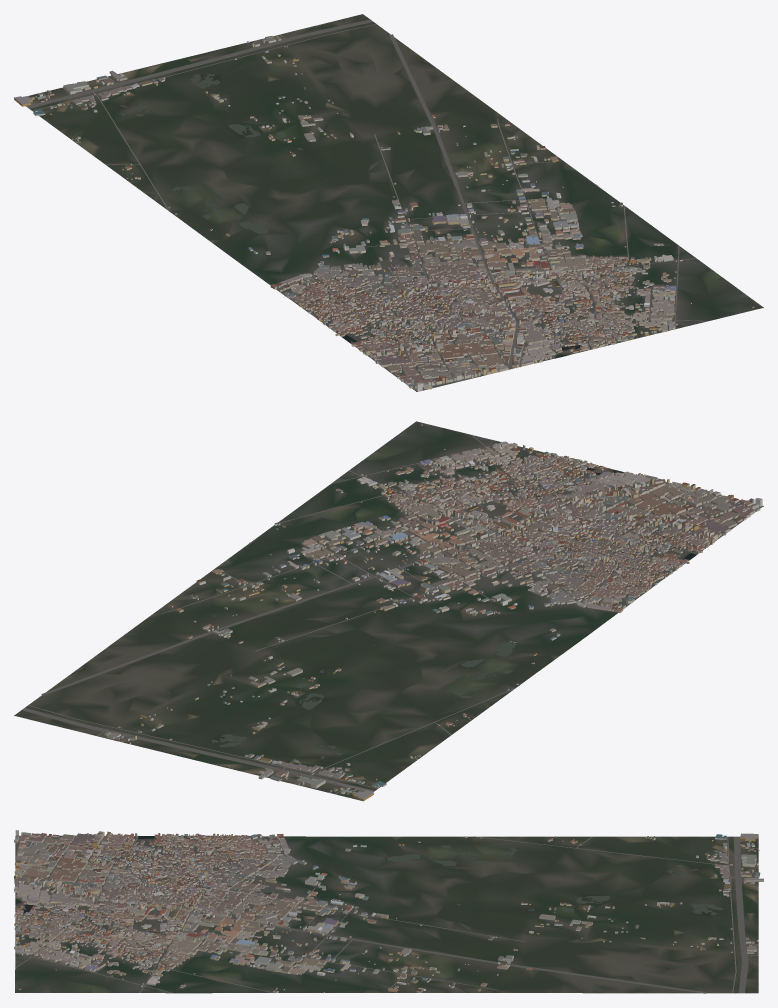
3 views of the same model, one above another, from view 1: azimuth 30°, elevation 25°; view 2: azimuth 150°, elevation 25°; view 3: azimuth 270°, elevation 25° (orthographic). The views are drawn at different scales.
Visible parts, largest first — view 1: ground, buildings, roads, water; view 2: ground, buildings, roads, water; view 3: ground, buildings, roads, water.
Part boxes in pixels (x1=…): ground: x1=27, y1=14, x2=763, y2=391; buildings: x1=14, y1=36, x2=754, y2=391; roads: x1=26, y1=19, x2=708, y2=389; water: x1=120, y1=73, x2=581, y2=357; ground: x1=14, y1=421, x2=763, y2=800; buildings: x1=104, y1=424, x2=762, y2=801; roads: x1=21, y1=435, x2=760, y2=794; water: x1=211, y1=468, x2=696, y2=759; ground: x1=15, y1=835, x2=758, y2=993; buildings: x1=14, y1=830, x2=763, y2=992; roads: x1=15, y1=835, x2=758, y2=993; water: x1=15, y1=836, x2=723, y2=915.
Size of the model in its own units: 1420 by 33.14 by 2828.
